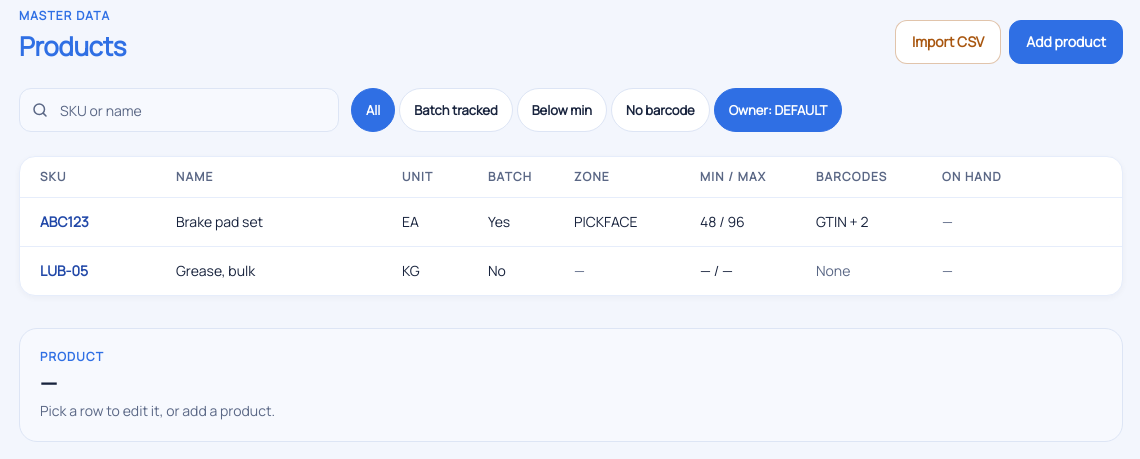
Test: Products › filters with the chips and the search box
Check: the text "ABC123" is shown, box [40, 212, 89, 231]
Click the button "Batch tracked". click: (456,110)
box: [399, 88, 513, 132]
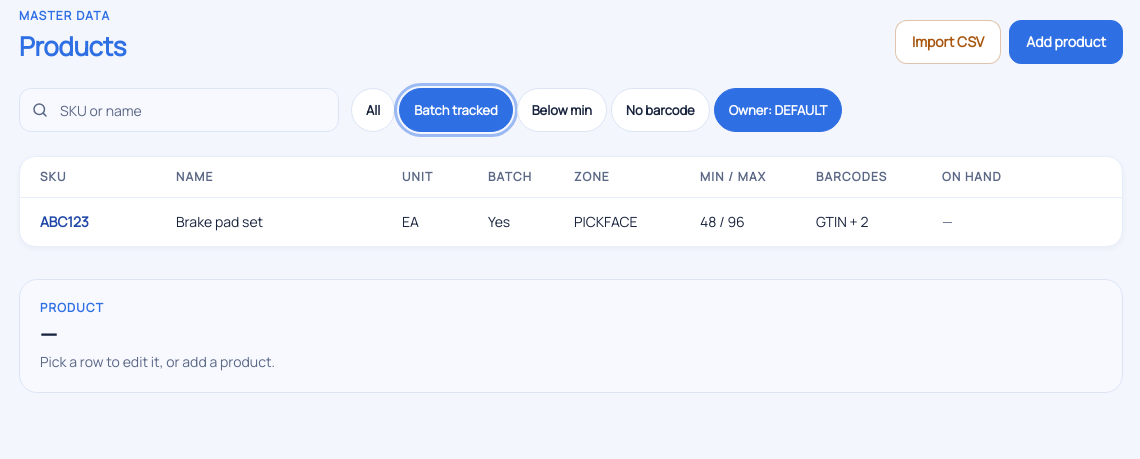
Check: the button "LUB-05" is gone
Click the button "No barcode". click: (660,110)
box: [611, 88, 710, 132]
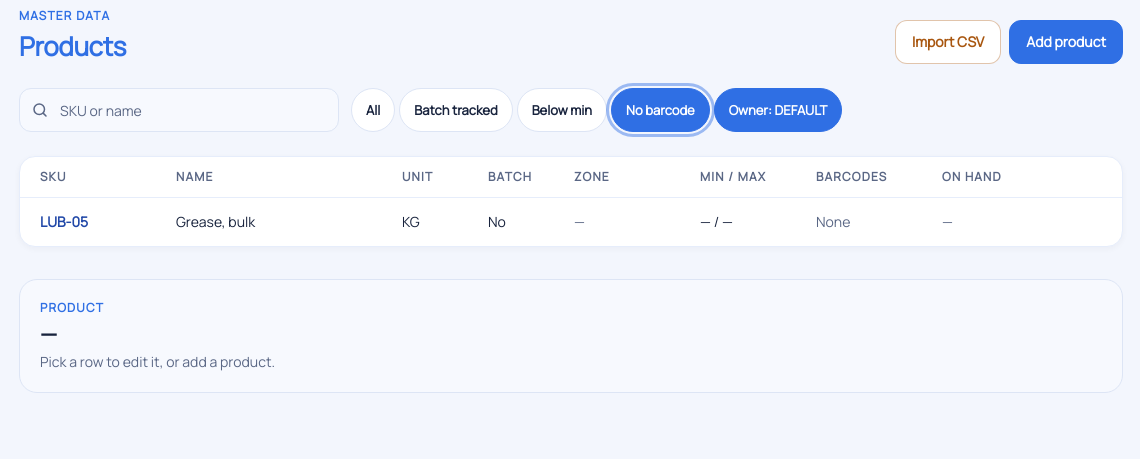
Check: the text "LUB-05" is shown, box [40, 212, 88, 231]
Check: the button "ABC123" is gone
Click the button "All". click: (373,110)
box: [351, 88, 395, 132]
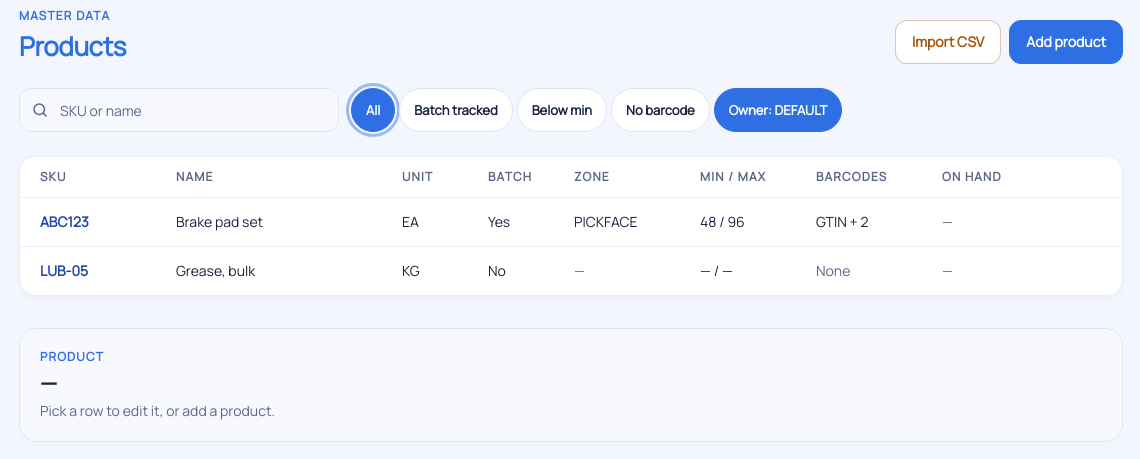
Type "grease" into the search field named "Find a product". click: (179,110)
box: [19, 88, 339, 132]
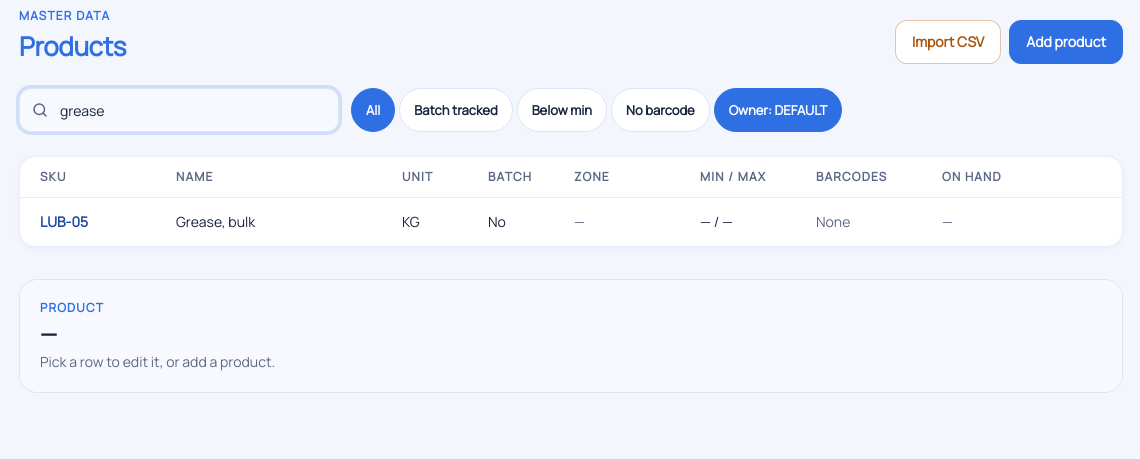
Check: the text "LUB-05" is shown, box [40, 212, 88, 231]
Check: the button "ABC123" is gone
